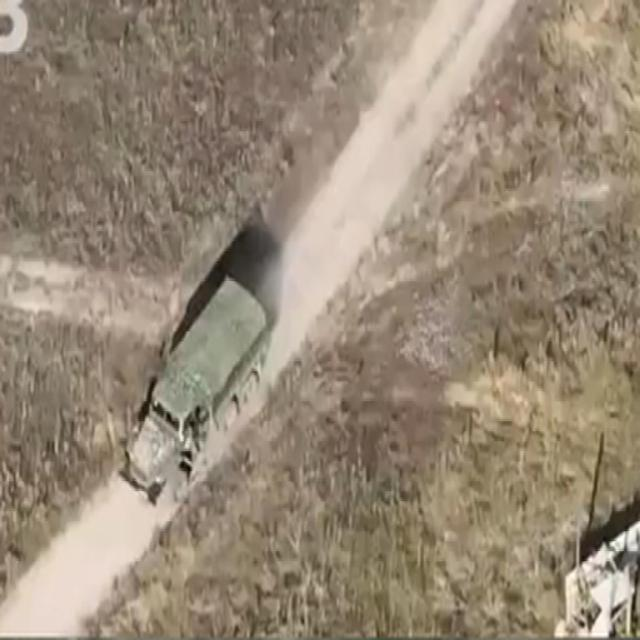TRUCK: (112, 267, 270, 509)
